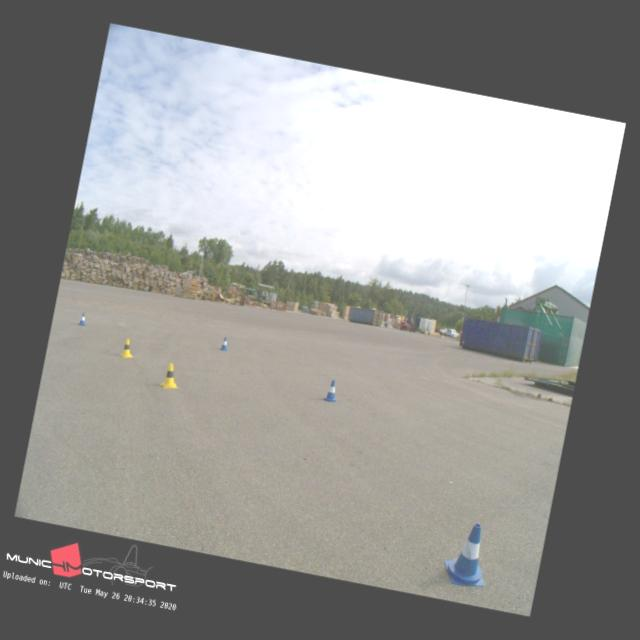blue_cone: (440, 519, 496, 590), (323, 378, 340, 402), (219, 336, 229, 351), (78, 312, 88, 326)
yellow_cone: (158, 362, 182, 390), (118, 338, 136, 358)
